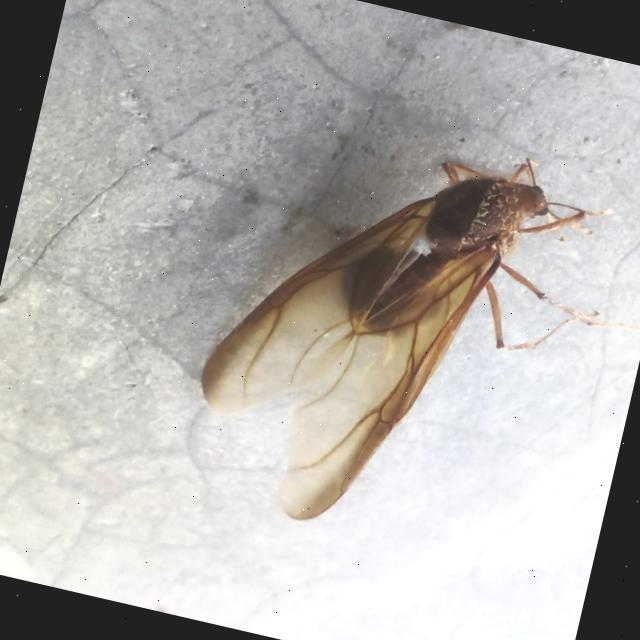Dead-Male-Alate: (174, 98, 640, 588)
